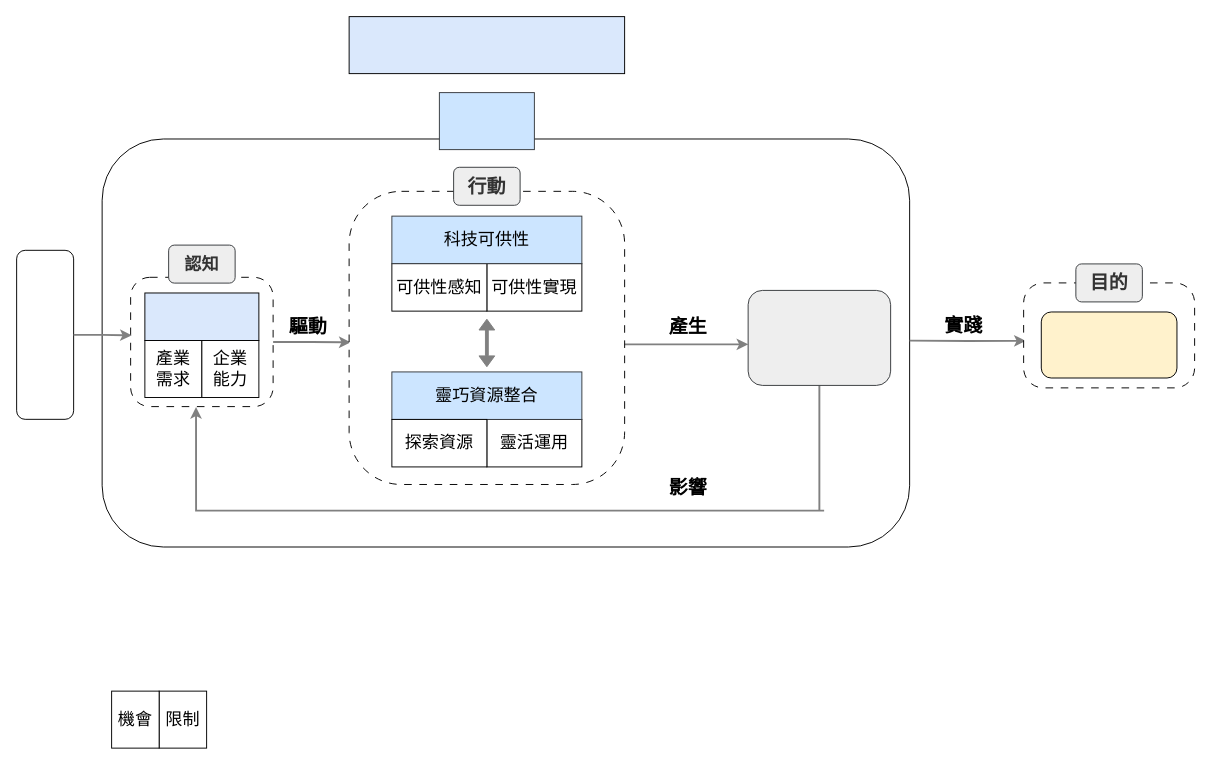
Image size: 1211x765. Some labels were removed from this diagram. The shapes that lost their labels are listed below. From the top down, each one's box as (x1, y1, x2, y2) in pixels, then its label:
(348, 16, 625, 74): 數位創新平台發展歷程
(438, 92, 534, 150): 制定
(16, 249, 74, 419): 環 境
(144, 292, 259, 340): 能動性
(747, 289, 891, 385): 平台階段性 應用成果
(1040, 311, 1177, 378): 數位紡織 產業生態系
